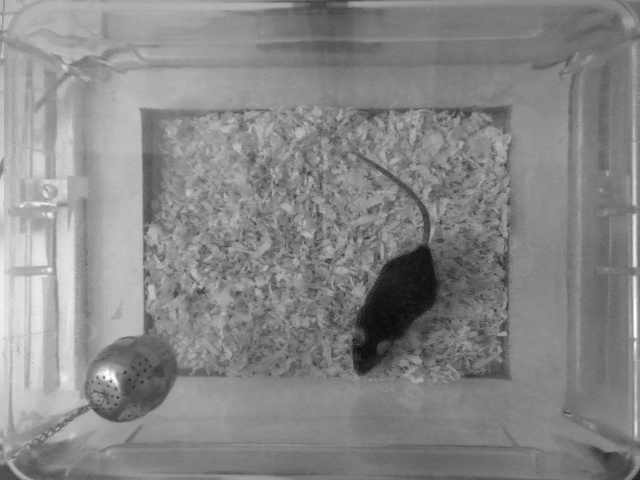mice: (346, 152, 438, 376)
